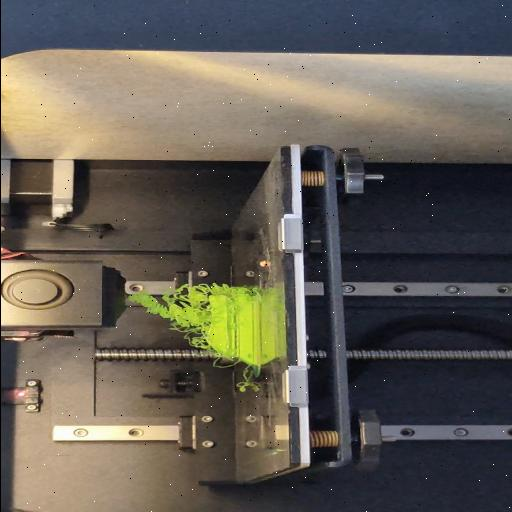spaghetti: (128, 283, 212, 353), (213, 284, 257, 296), (236, 365, 254, 393), (211, 356, 239, 368)
